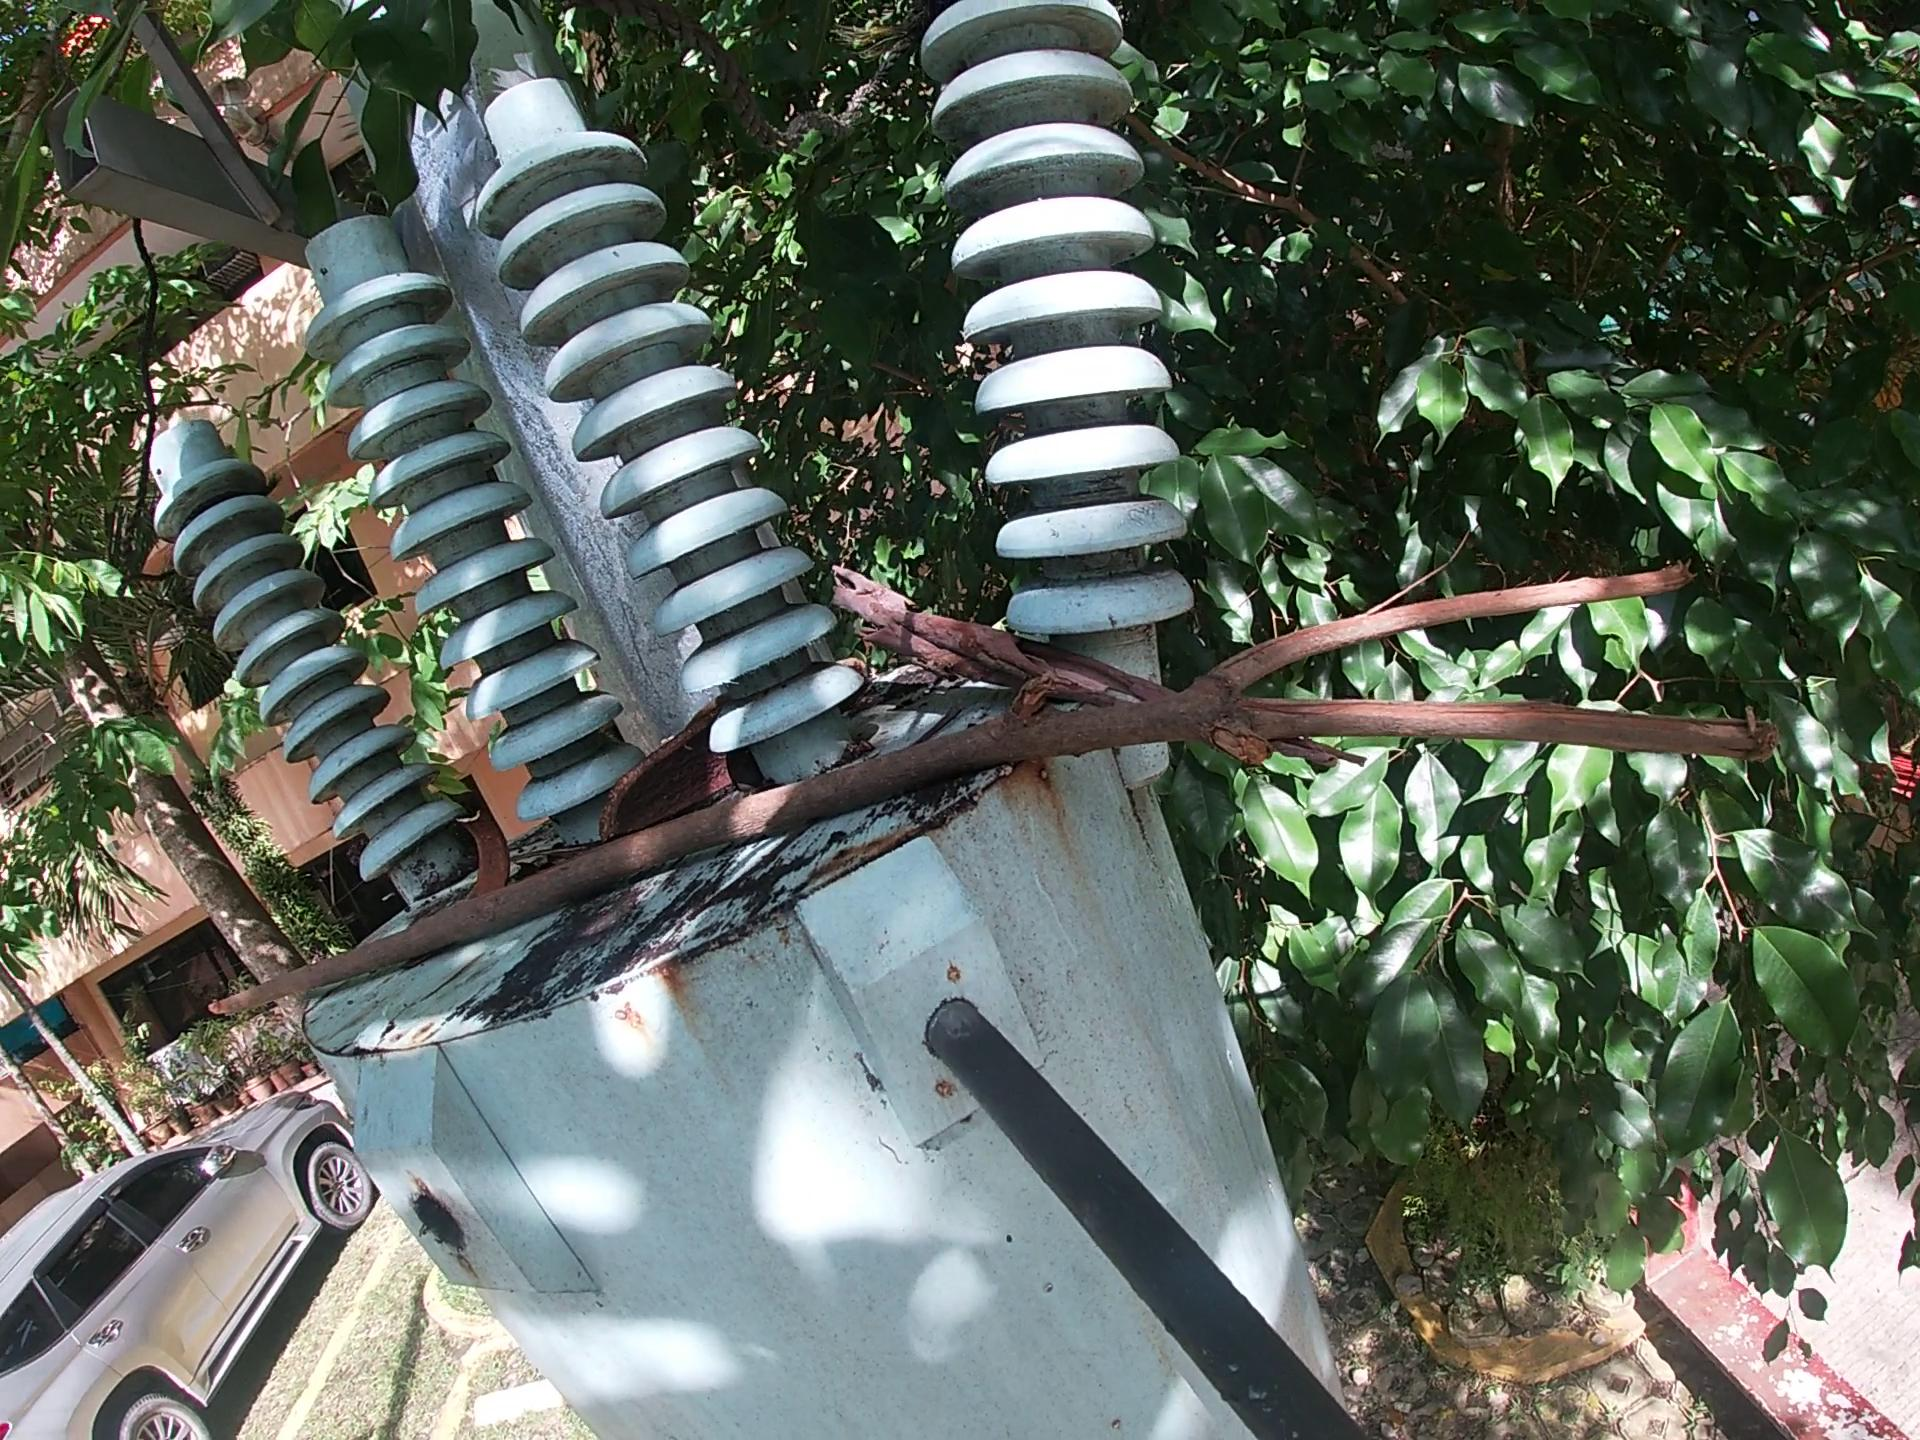mahogany fruit: (591, 696, 742, 849), (446, 805, 517, 905)
tree branch: (200, 554, 1788, 1039), (824, 560, 1373, 779)
